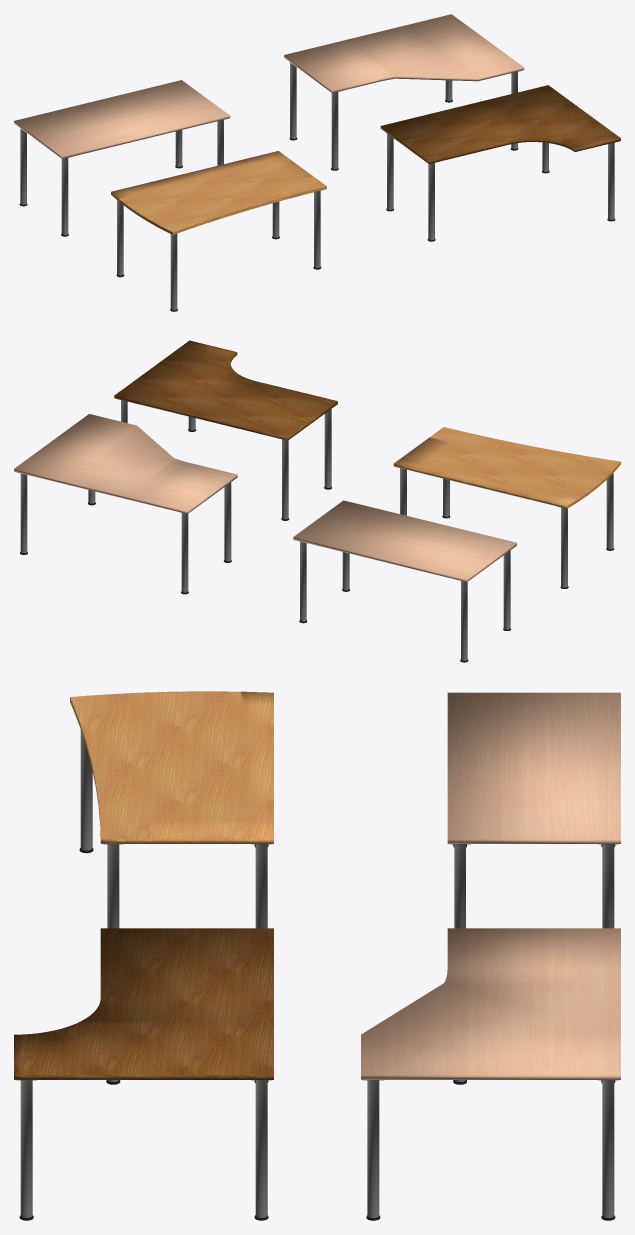
Rendered from wooden_office_tables.obj.
The picture shows the model from 3 angles, top to bottom: view 1: azimuth 30°, elevation 25°; view 2: azimuth 150°, elevation 25°; view 3: azimuth 270°, elevation 25°; orthographic projection. The views are drawn at different scales.
Parts seen in each view (by area): view 1: pear_table_Cube.003, teak_table_Cube, alder_table_Cube.002, pear_table_rectangle_Cube.001, leg_downleft3_Cylinder.011, leg_downleft4_Cylinder.012, leg_downleft2_Cylinder.004, leg_downright_Cylinder, leg_downright2_Cylinder.007, leg_downleft_Cylinder.003, leg_upleft3_Cylinder.010, leg_upleft4_Cylinder.013 (+2 smaller); view 2: pear_table_Cube.003, teak_table_Cube, alder_table_Cube.002, pear_table_rectangle_Cube.001, leg_upright4_Cylinder.014, leg_upleft4_Cylinder.013, leg_downleft4_Cylinder.012, leg_downleft_Cylinder.003, leg_downleft3_Cylinder.011, leg_downleft2_Cylinder.004, leg_upleft2_Cylinder.005, leg_upleft_Cylinder.002 (+2 smaller); view 3: pear_table_Cube.003, teak_table_Cube, alder_table_Cube.002, pear_table_rectangle_Cube.001, leg_downright4_Cylinder.015, leg_upright4_Cylinder.014, leg_downright_Cylinder, leg_upright_Cylinder.001, leg_downleft2_Cylinder.004, leg_upright3_Cylinder.009, leg_downright2_Cylinder.007, leg_upright2_Cylinder.006 (+1 smaller).
Part boxes in pixels (bbox=[...]): pear_table_Cube.003: bbox=[284, 14, 524, 93]; teak_table_Cube: bbox=[380, 85, 620, 163]; alder_table_Cube.002: bbox=[111, 151, 326, 234]; pear_table_rectangle_Cube.001: bbox=[14, 80, 230, 158]; leg_downleft3_Cylinder.011: bbox=[61, 157, 70, 236]; leg_downleft4_Cylinder.012: bbox=[331, 92, 338, 170]; leg_downleft2_Cylinder.004: bbox=[170, 233, 177, 311]; leg_downright_Cylinder: bbox=[607, 141, 617, 221]; leg_downright2_Cylinder.007: bbox=[313, 190, 321, 269]; leg_downleft_Cylinder.003: bbox=[427, 163, 435, 241]; leg_upleft3_Cylinder.010: bbox=[19, 128, 27, 206]; leg_upleft4_Cylinder.013: bbox=[289, 62, 297, 140]; pear_table_Cube.003: bbox=[14, 414, 237, 513]; teak_table_Cube: bbox=[114, 340, 337, 440]; alder_table_Cube.002: bbox=[393, 427, 620, 508]; pear_table_rectangle_Cube.001: bbox=[293, 500, 516, 581]; leg_upright4_Cylinder.014: bbox=[18, 472, 27, 554]; leg_upleft4_Cylinder.013: bbox=[181, 513, 188, 594]; leg_downleft4_Cylinder.012: bbox=[224, 482, 231, 562]; leg_downleft_Cylinder.003: bbox=[324, 409, 331, 489]; leg_downleft3_Cylinder.011: bbox=[503, 550, 511, 630]; leg_downleft2_Cylinder.004: bbox=[606, 473, 614, 550]; leg_upleft2_Cylinder.005: bbox=[557, 506, 568, 588]; leg_upleft_Cylinder.002: bbox=[281, 439, 289, 520]; pear_table_Cube.003: bbox=[361, 928, 620, 1079]; teak_table_Cube: bbox=[14, 928, 273, 1079]; alder_table_Cube.002: bbox=[70, 691, 273, 843]; pear_table_rectangle_Cube.001: bbox=[447, 692, 620, 843]; leg_downright4_Cylinder.015: bbox=[363, 1080, 383, 1220]; leg_upright4_Cylinder.014: bbox=[598, 1080, 618, 1220]; leg_downright_Cylinder: bbox=[16, 1080, 36, 1220]; leg_upright_Cylinder.001: bbox=[251, 1080, 271, 1220]; leg_downleft2_Cylinder.004: bbox=[79, 730, 93, 853]; leg_upright3_Cylinder.009: bbox=[598, 844, 618, 928]; leg_downright2_Cylinder.007: bbox=[103, 844, 123, 928]; leg_upright2_Cylinder.006: bbox=[251, 844, 271, 928].
Bounding box in the file's own units: 41.9 × 7.54 × 28.
Materials: 5 (3 with a texture image).
